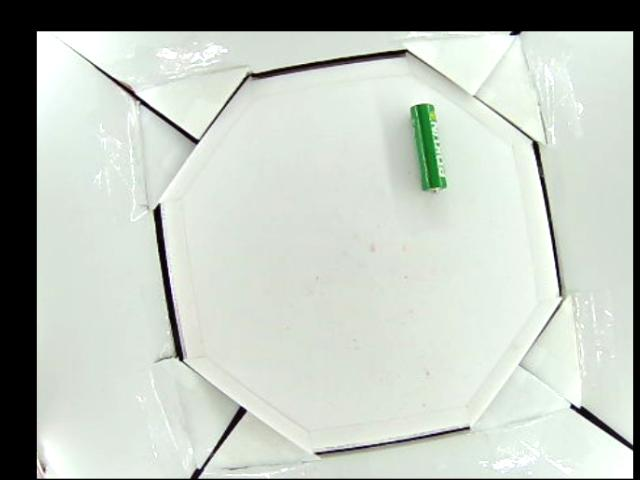Battery: (406, 102, 447, 192)
